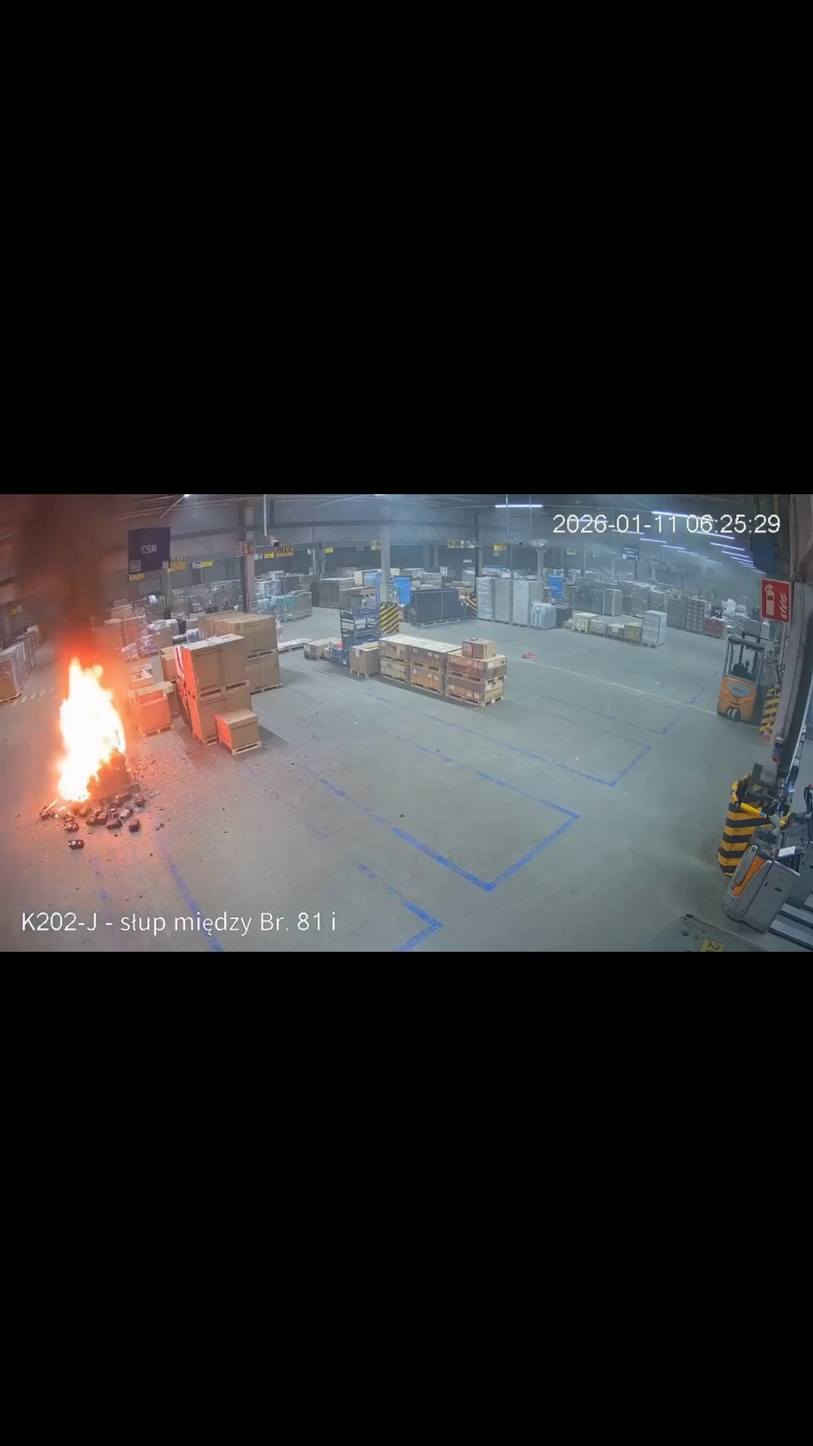fire: (49, 651, 133, 810)
smoke: (1, 495, 158, 667)
